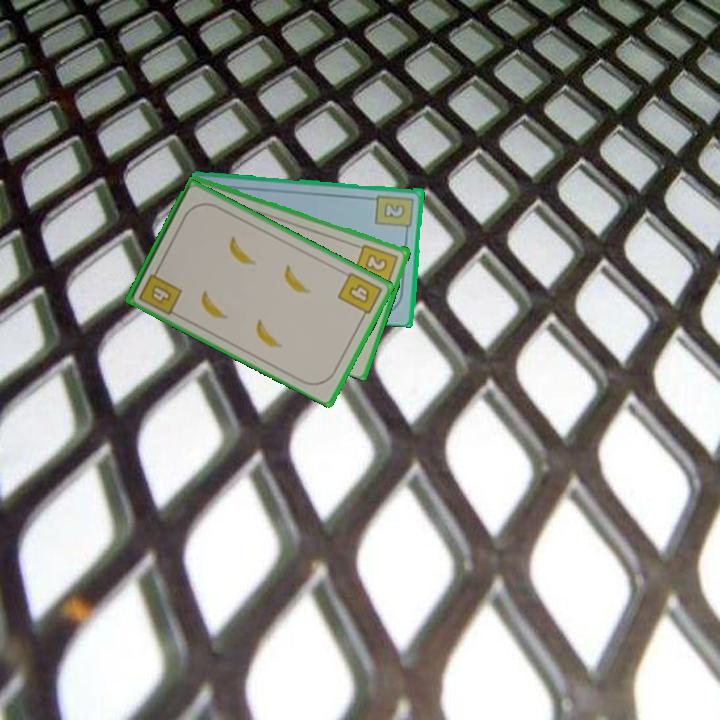2b: (352, 240, 401, 291), (373, 191, 416, 236)
4b: (334, 268, 385, 323), (135, 263, 185, 318)
